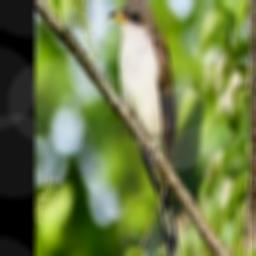Cuckoo: (108, 0, 183, 256)
